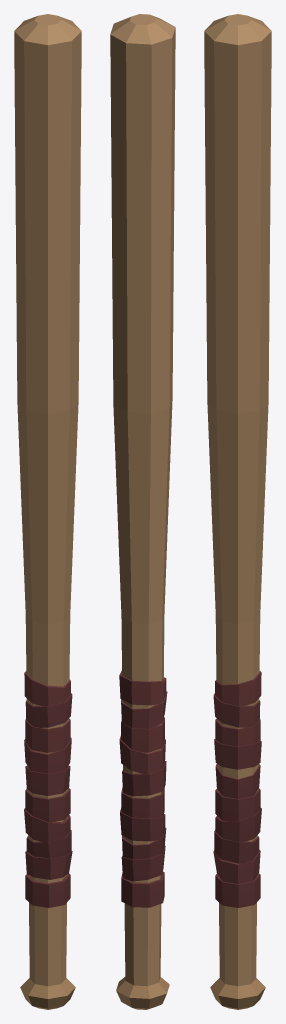
The model's file is Baseball_bat_01.fbx.
The picture shows the model from 3 angles, left to right: view 1: azimuth 90°, elevation 25°; view 2: azimuth 150°, elevation 25°; view 3: azimuth 270°, elevation 25°; orthographic projection.
Parts seen in each view (by area): view 1: Baseball_bat_01; view 2: Baseball_bat_01; view 3: Baseball_bat_01.
Boxes of the visible parts, box(x1,y1,x2,y2) form: Baseball_bat_01: box(14, 14, 81, 1009); Baseball_bat_01: box(110, 14, 175, 1009); Baseball_bat_01: box(204, 14, 271, 1009).
Bounding box in the file's own units: 0.0586 × 0.9403 × 0.0586.
